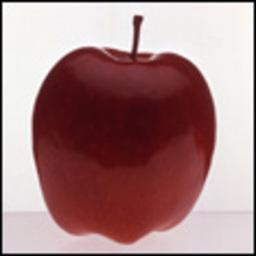apple: (28, 39, 215, 242)
